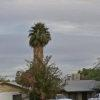Palm tree: (23, 18, 61, 70)
